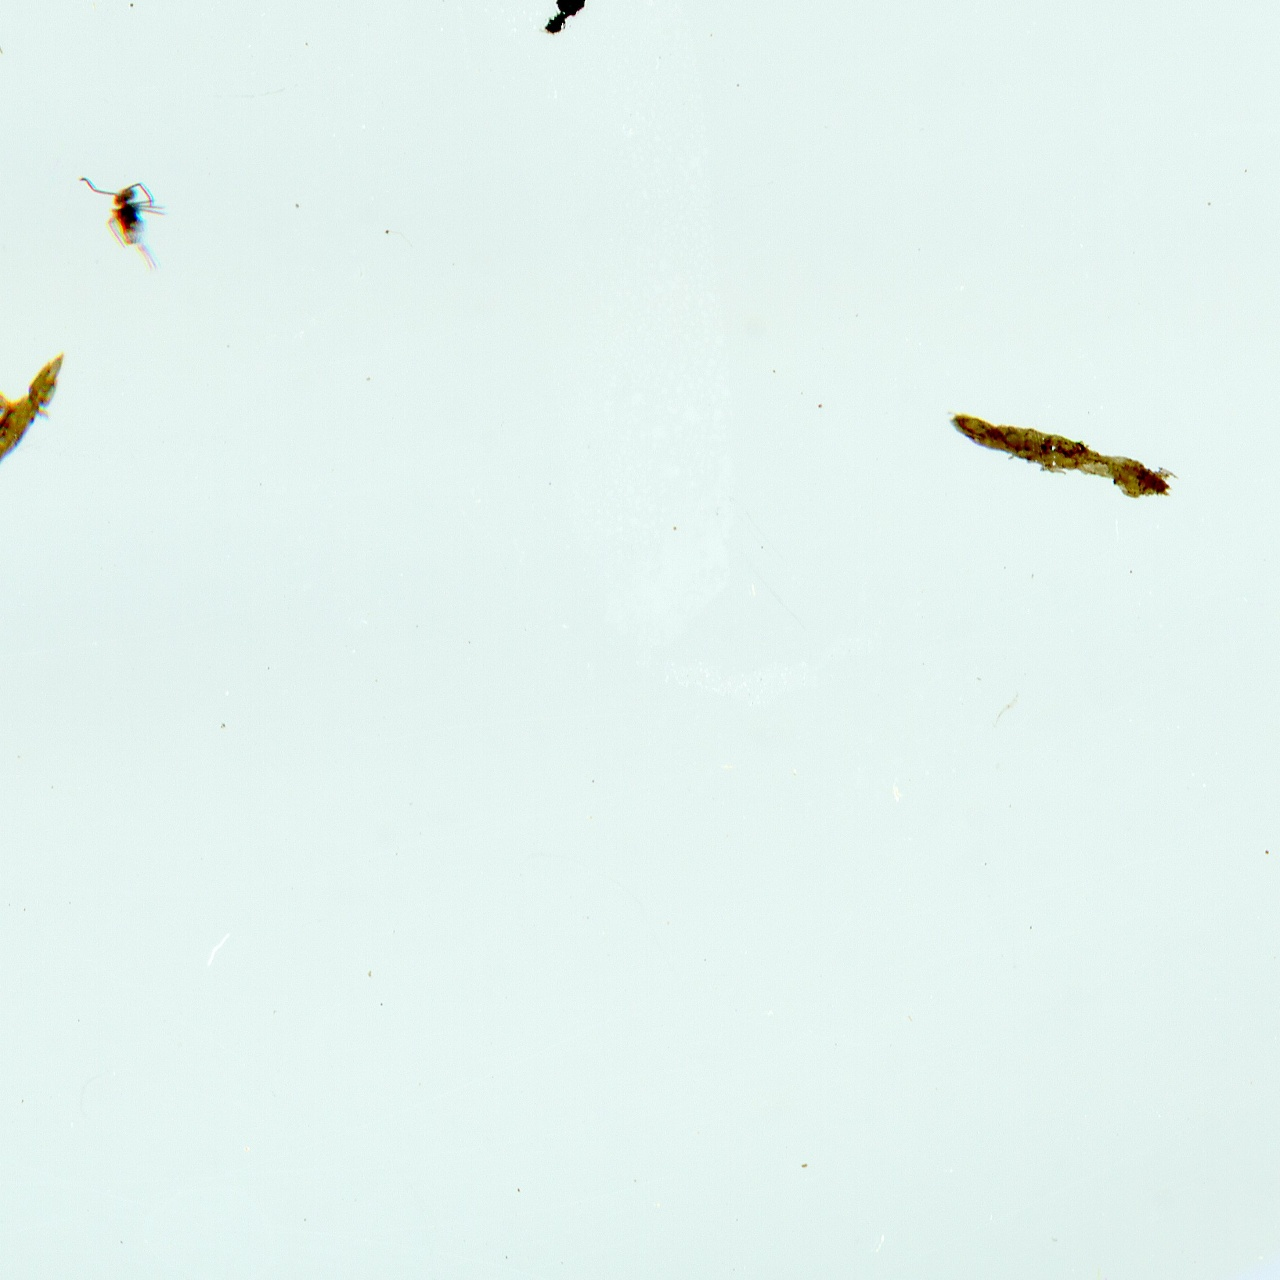arthropod: (77, 176, 171, 273), (0, 343, 15, 468)
